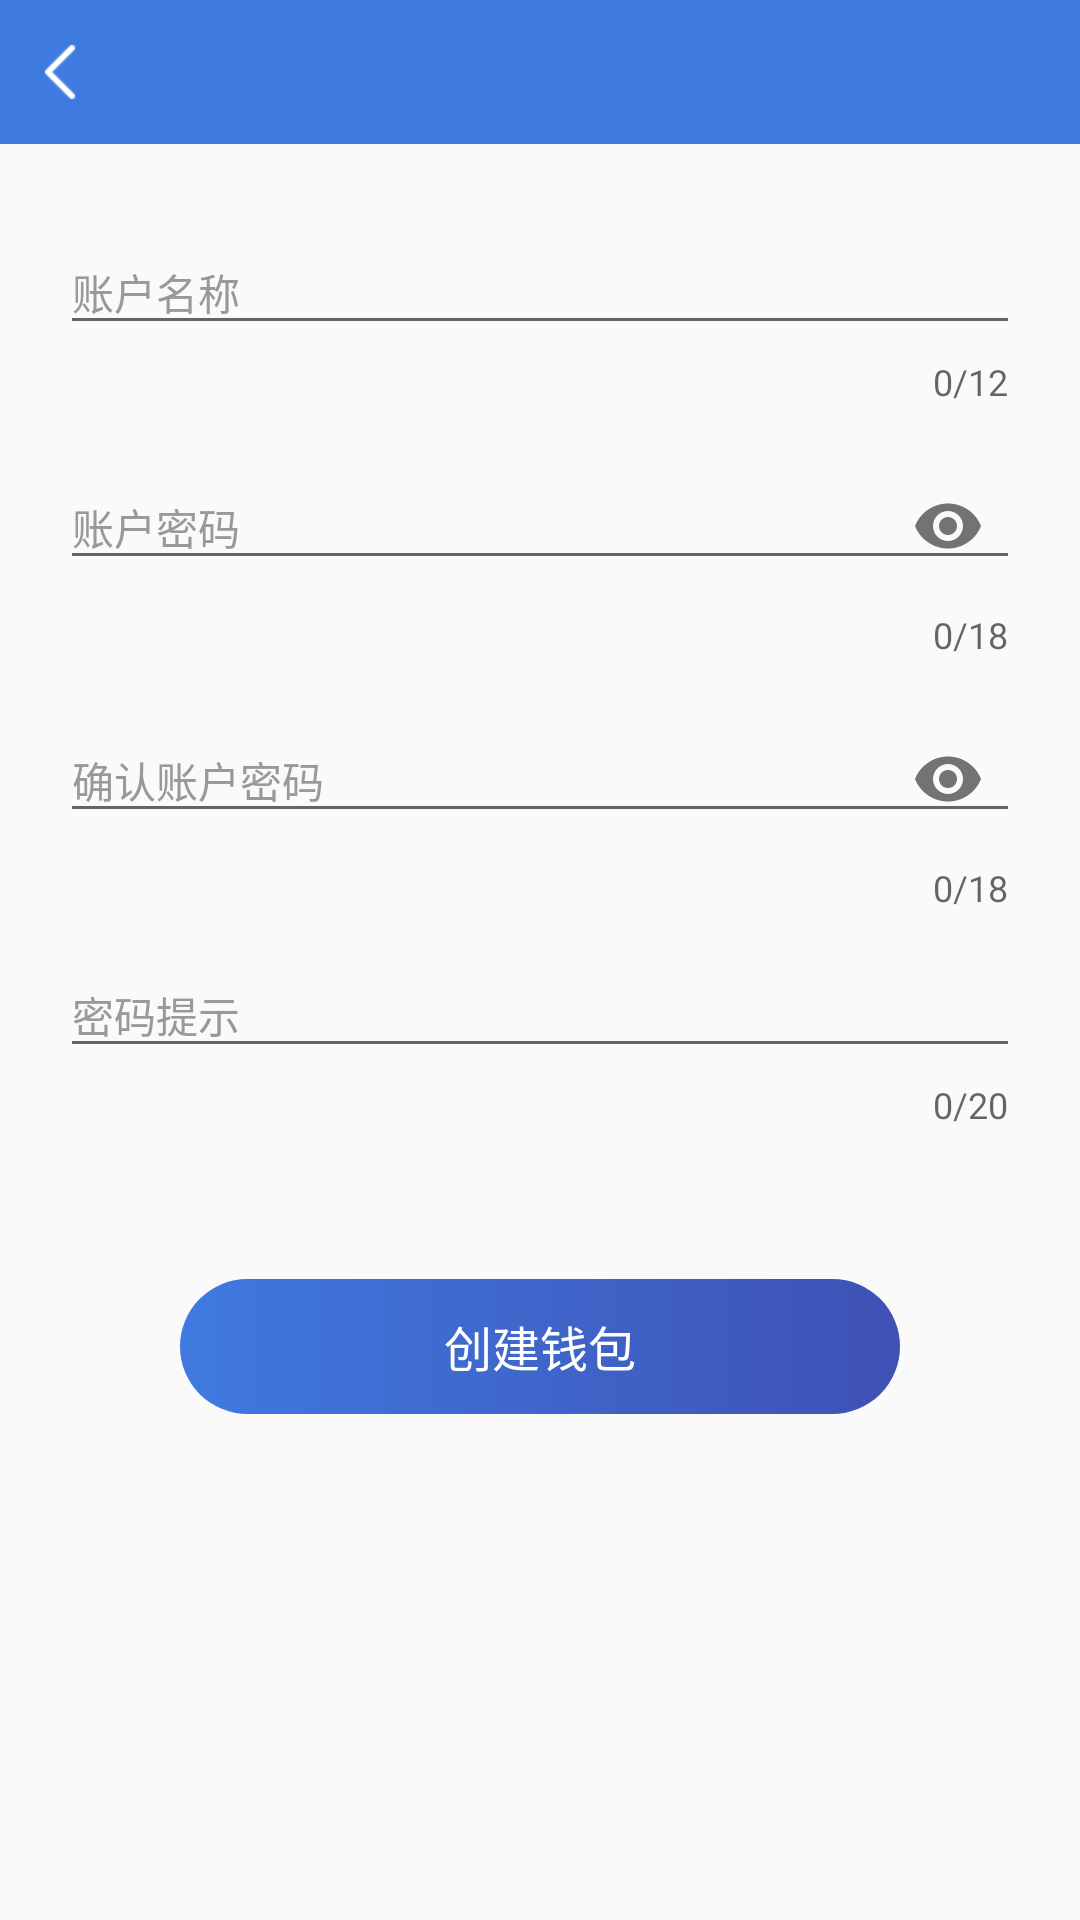

Screen size 1080×1920. Icon name, then its center in pixels as point (x, y):
back: point (60, 72)
